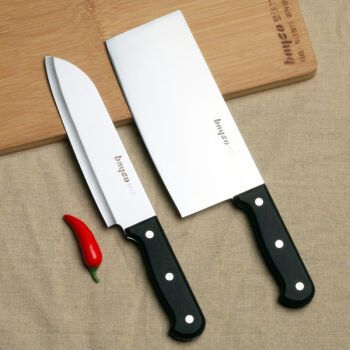knief: (116, 16, 305, 292)
